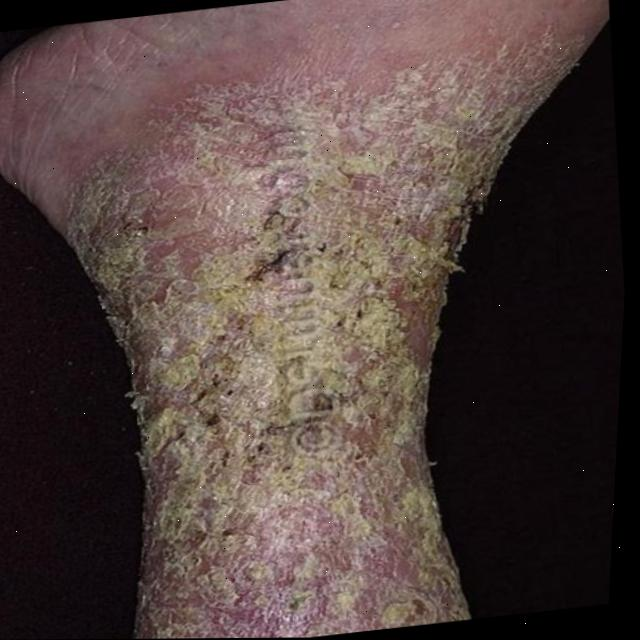Eczema: (81, 63, 521, 639)
